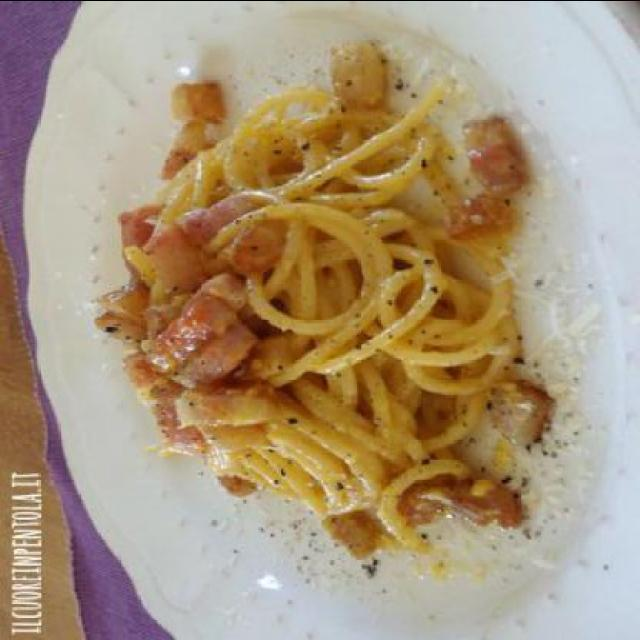Pasta with carbonara sauce: (78, 22, 600, 530)
